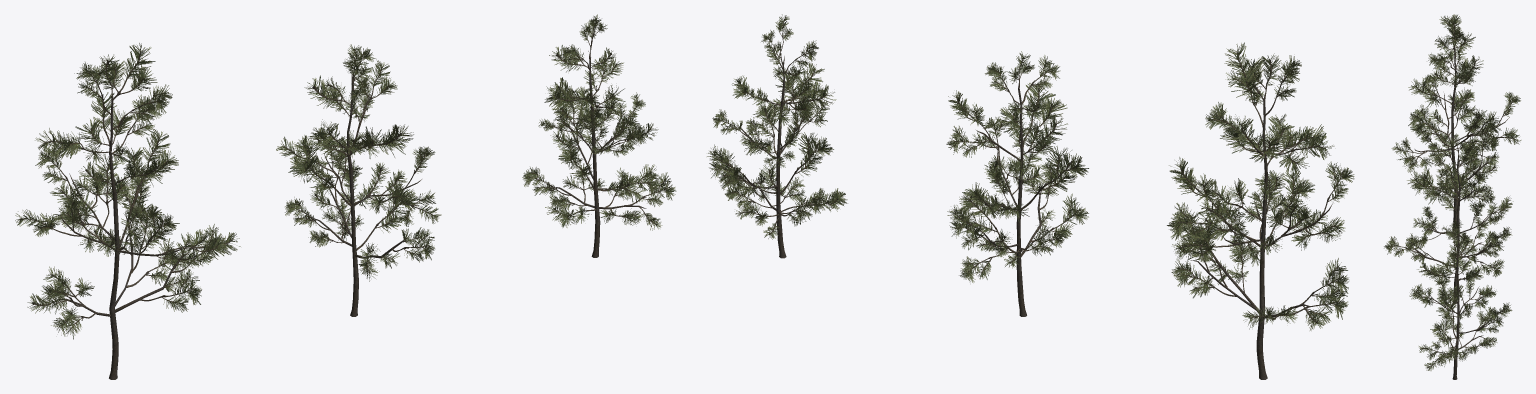
The model's file is pine.glb.
The picture shows the model from 3 angles, left to right: view 1: azimuth 30°, elevation 25°; view 2: azimuth 150°, elevation 25°; view 3: azimuth 270°, elevation 25°; orthographic projection. The views are drawn at different scales.
Parts seen in each view (by area): view 1: pine_sapling_small_b; view 2: pine_sapling_small_b; view 3: pine_sapling_small_b.
Part boxes in pixels (box(x1,y1,x2,y2)): pine_sapling_small_b: box(15, 14, 676, 379); pine_sapling_small_b: box(707, 14, 1354, 379); pine_sapling_small_b: box(1384, 14, 1521, 379).
Bounding box in the file's own units: 2.64 × 1.3 × 0.7703.
Materials: 2 (2 with a texture image).
